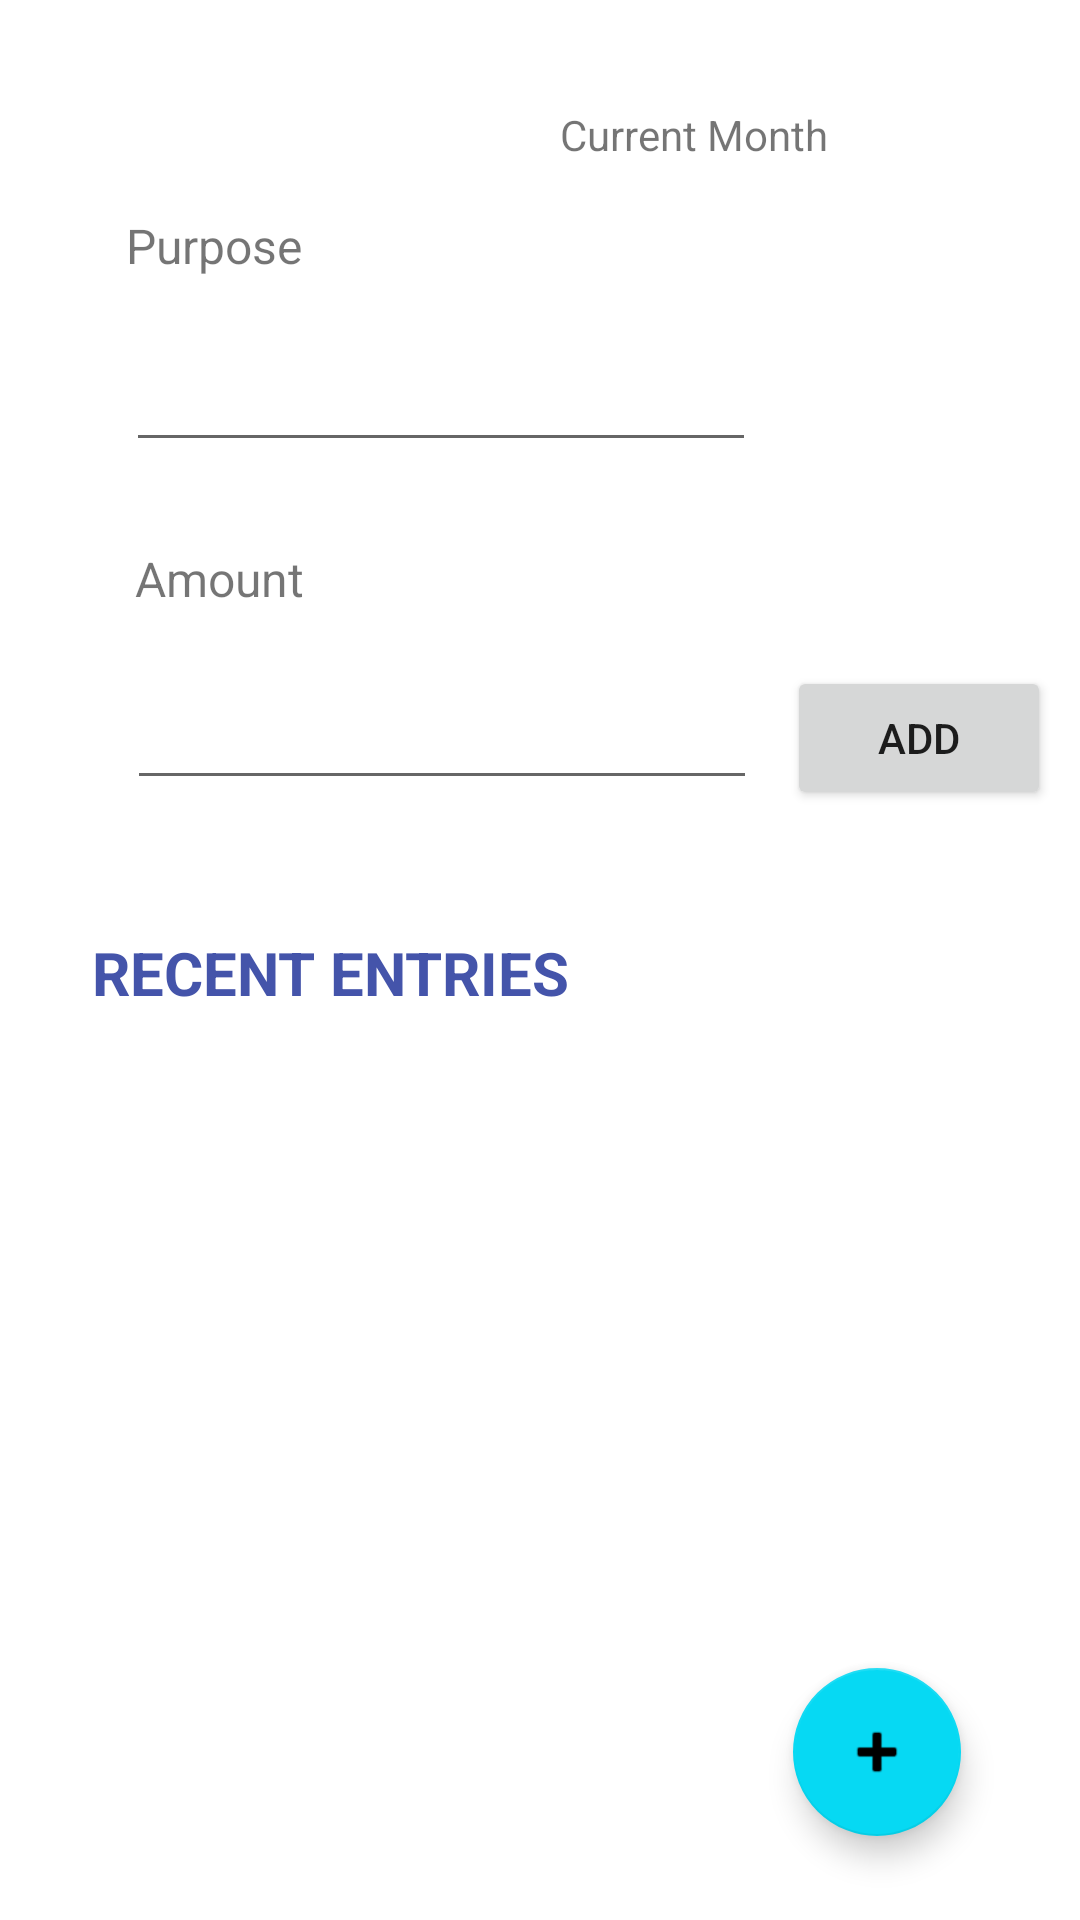

Screen size 1080px×1920px. Icon name, then its box in pixels as (x1, y1, x2, y2):
add: (793, 1668, 961, 1836)
